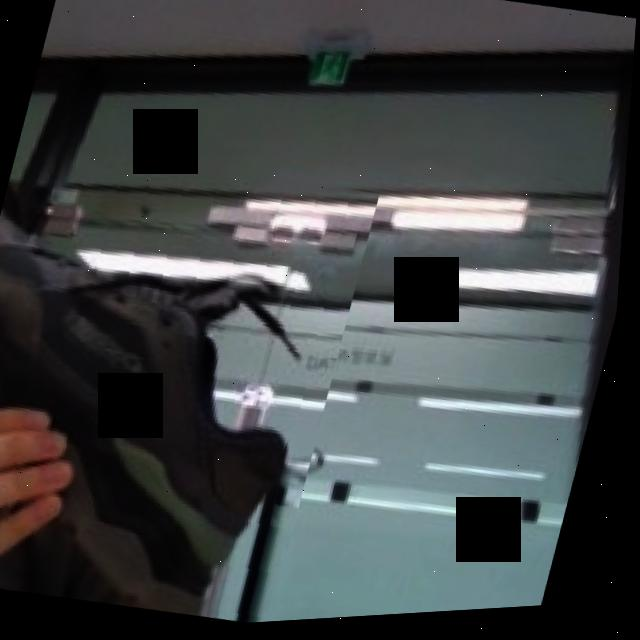shoe: (0, 122, 389, 640)
